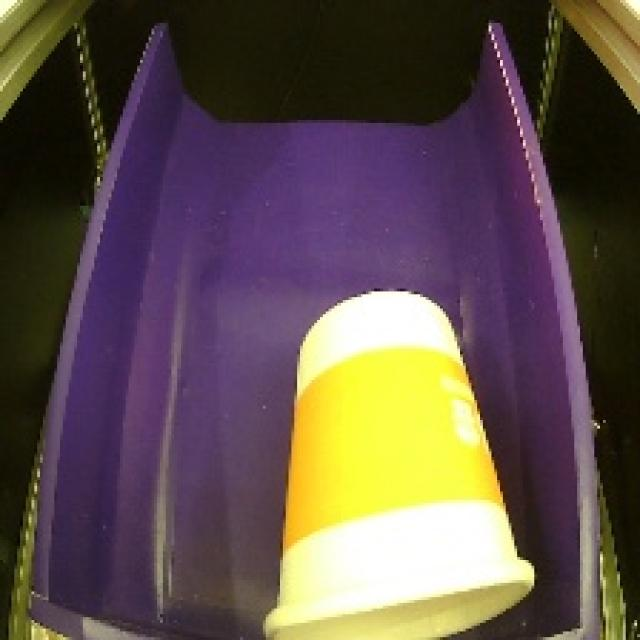cups: (248, 277, 548, 640)
